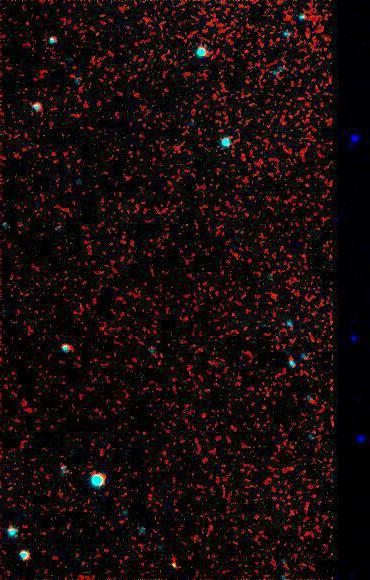star: (159, 549, 189, 579)
